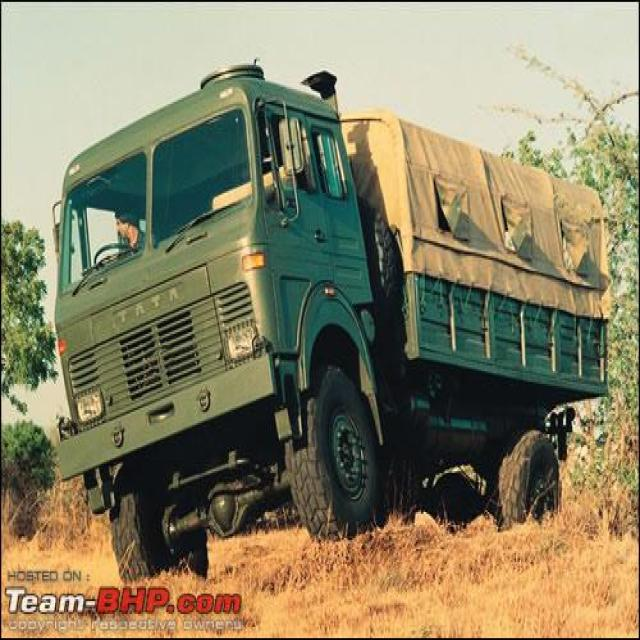truck: (55, 65, 610, 581)
